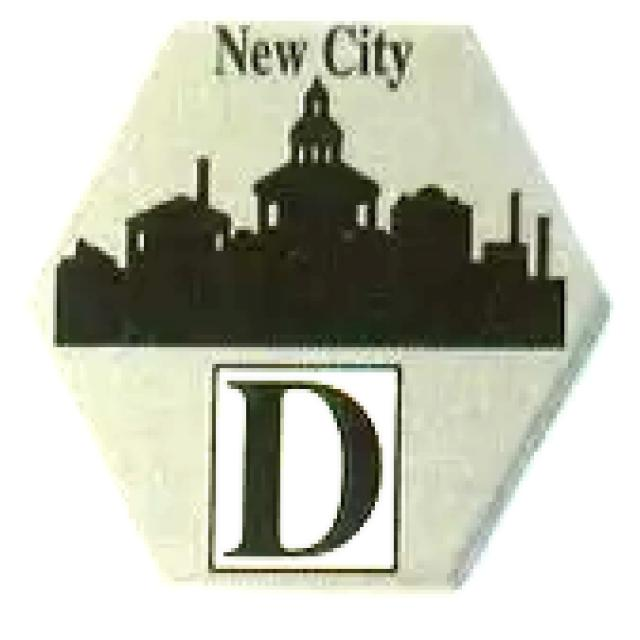19_0: (33, 21, 609, 592)
